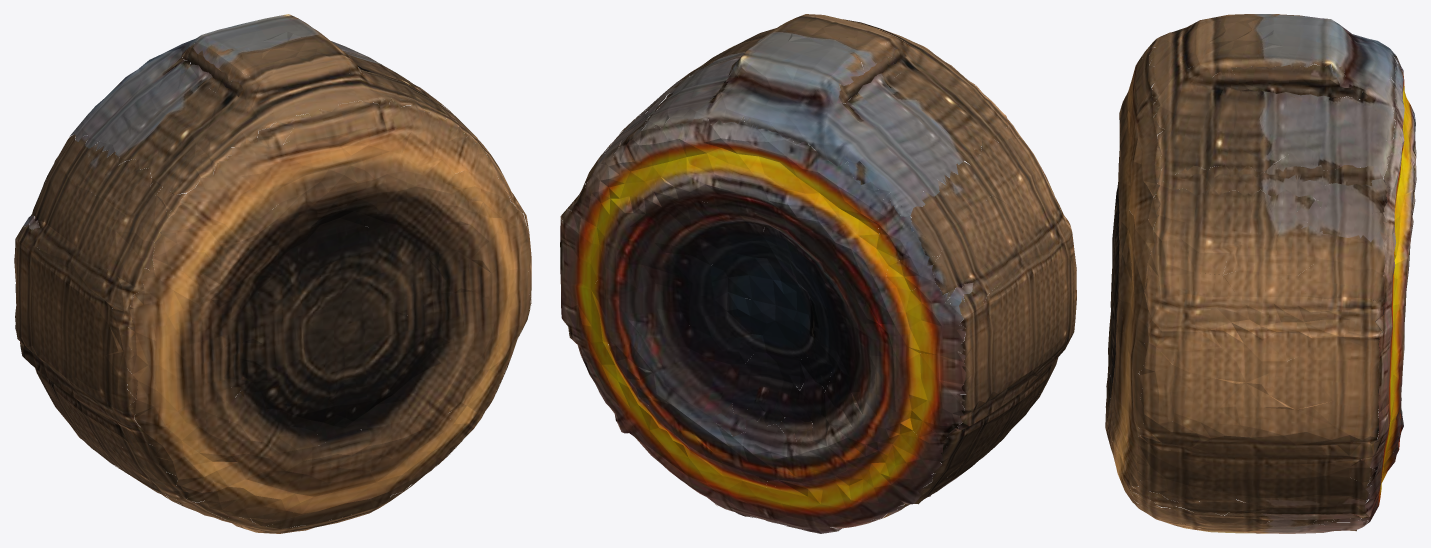
Rendered from reactor.glb.
3 renders of one model, left to right at view 1: azimuth 30°, elevation 25°; view 2: azimuth 150°, elevation 25°; view 3: azimuth 270°, elevation 25°, orthographic. The views are drawn at different scales.
Visible parts, largest first — view 1: world; view 2: world; view 3: world.
Boxes of the visible parts, x1,y1,x2,y2 form: world: (14,14,531,533); world: (560,14,1076,533); world: (1105,14,1416,533).
Size of the model in its own units: 0.8894 by 0.9162 by 0.5401.
1 material, 1 textured.
